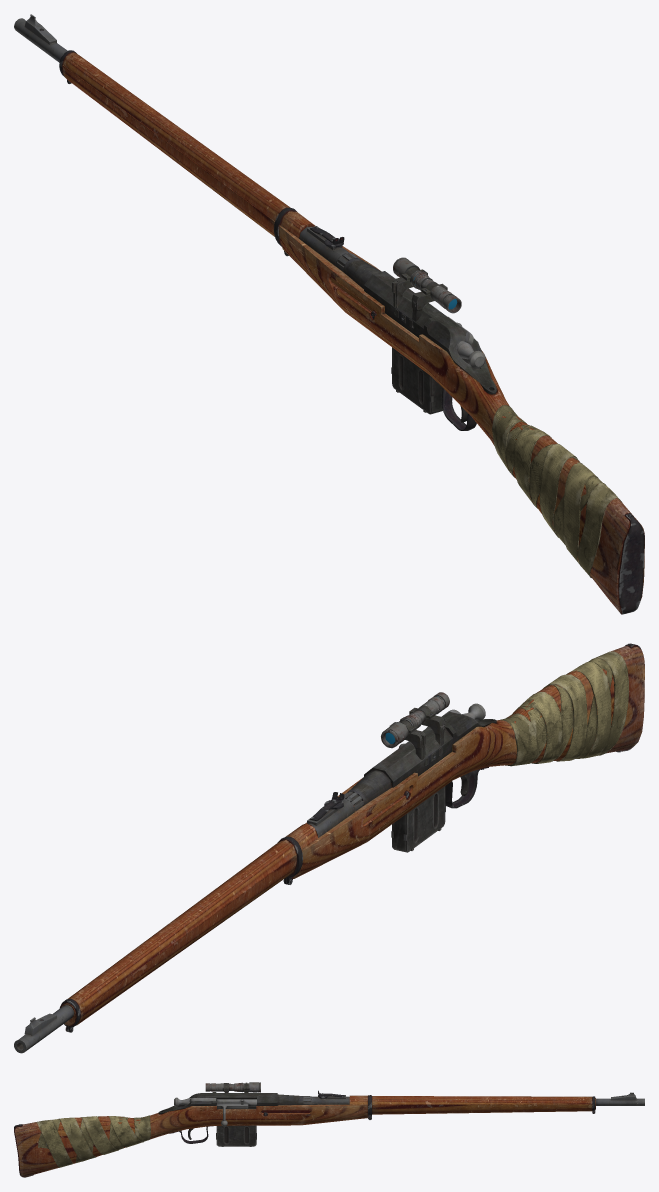
Rendered from kar98k.glb.
3 views of the same model, one above another, from view 1: azimuth 30°, elevation 25°; view 2: azimuth 150°, elevation 25°; view 3: azimuth 270°, elevation 25° (orthographic). The views are drawn at different scales.
Visible parts, largest first — view 1: Receiver; view 2: Receiver; view 3: Receiver, Bolt.
Boxes of the visible parts, left/top/right/bottom form: Receiver: left=14, top=14, right=644, bottom=614; Receiver: left=14, top=643, right=644, bottom=1053; Receiver: left=14, top=1082, right=644, bottom=1177; Bolt: left=174, top=1097, right=256, bottom=1126.
Size of the model in its own units: 0.0555 by 0.1842 by 1.11.
Materials: 3 (2 with a texture image).
